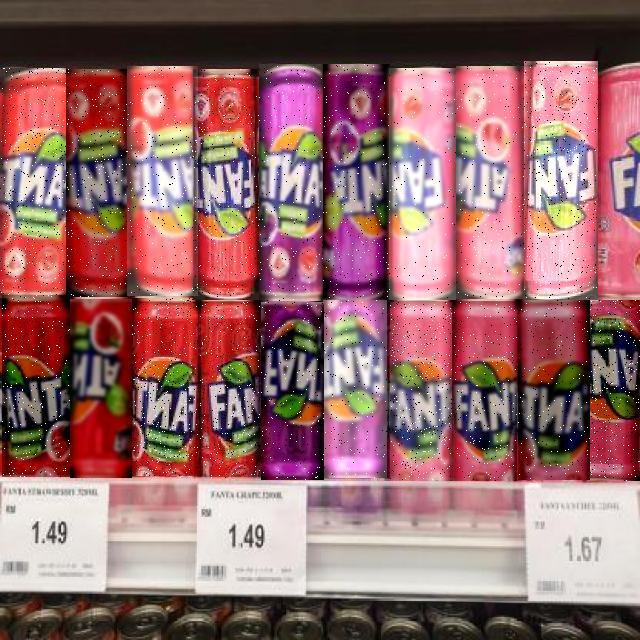Drinks: (524, 61, 598, 301), (127, 66, 198, 296), (324, 64, 392, 302), (456, 66, 524, 299), (259, 64, 324, 301), (390, 68, 456, 300), (193, 69, 259, 300), (0, 68, 66, 298), (66, 69, 128, 297), (518, 300, 590, 480), (2, 295, 70, 477), (133, 298, 199, 476), (454, 301, 517, 481), (261, 302, 324, 480), (324, 300, 387, 478), (70, 299, 132, 478), (390, 302, 452, 480), (200, 302, 260, 478), (587, 300, 640, 481)
